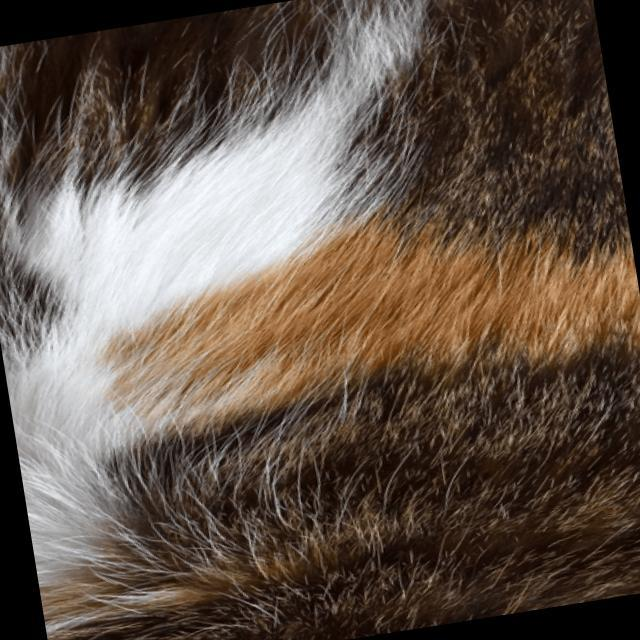Healthy skin: (210, 4, 614, 343), (333, 306, 640, 628), (52, 358, 310, 636), (0, 37, 203, 372)
